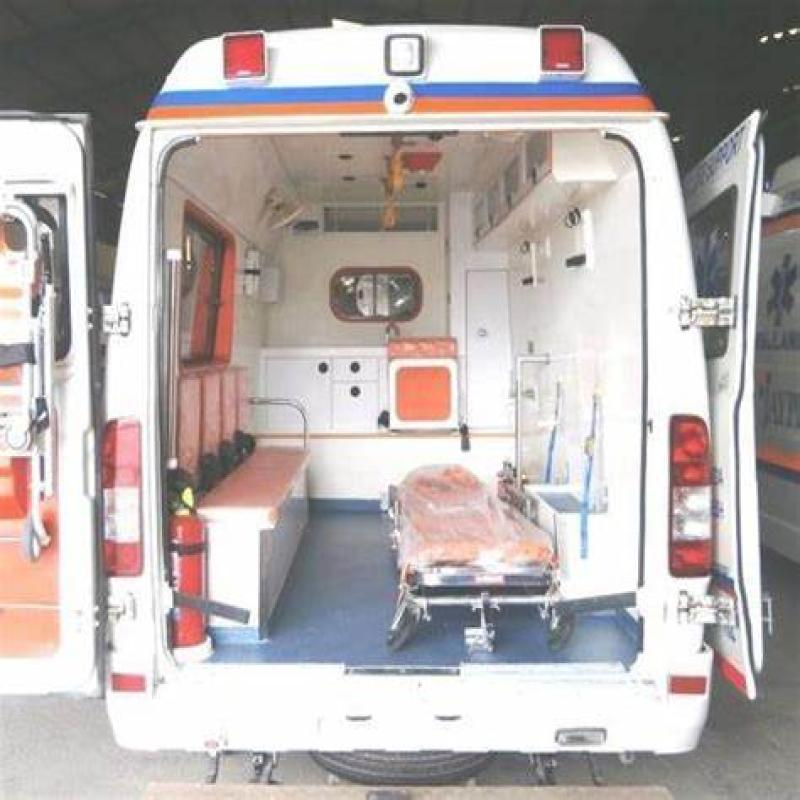AmbulanceSiren: (208, 25, 300, 123), (533, 9, 599, 90)
